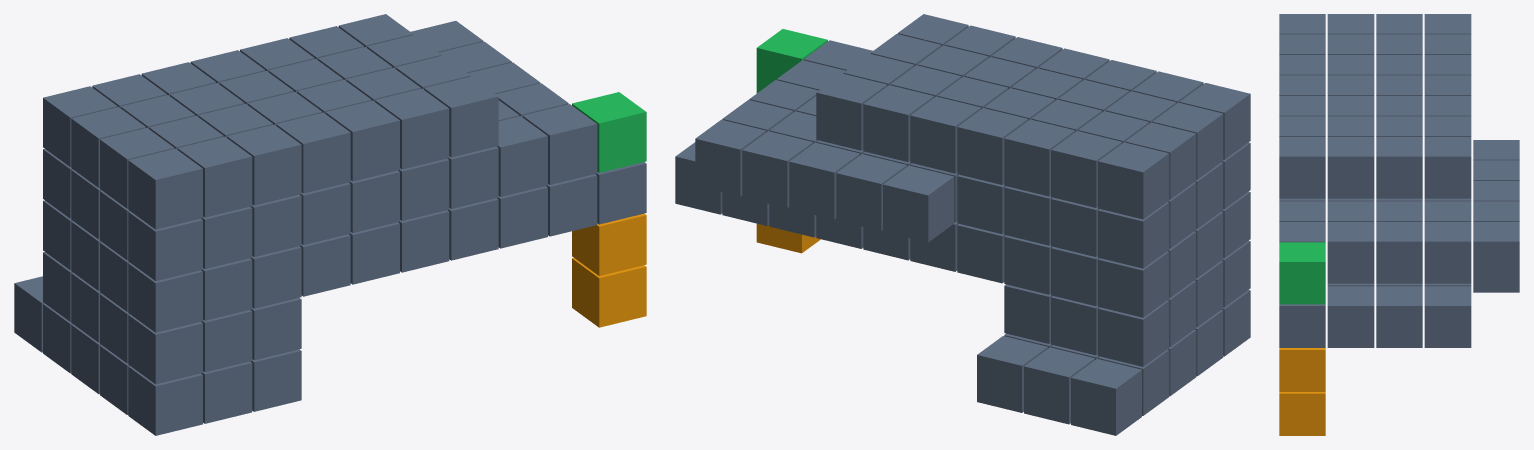
The model's file is stabilized.glb.
3 renders of one model, left to right at view 1: azimuth 30°, elevation 25°; view 2: azimuth 150°, elevation 25°; view 3: azimuth 270°, elevation 25°, orthographic. The views are drawn at different scales.
Parts seen in each view (by area): view 1: Original blocks, Columns, Brackets; view 2: Original blocks, Brackets, Columns; view 3: Original blocks, Columns, Brackets.
Boxes of the visible parts, box(x1,y1,x2,y2) form: Original blocks: box(14, 14, 646, 435); Columns: box(572, 213, 646, 327); Brackets: box(572, 92, 646, 172); Original blocks: box(675, 14, 1250, 435); Brackets: box(756, 29, 827, 93); Columns: box(756, 223, 820, 253); Original blocks: box(1279, 14, 1519, 347); Columns: box(1279, 348, 1325, 435); Brackets: box(1279, 242, 1325, 304).
Bounding box in the file's own units: 0.996 × 0.496 × 0.496.
